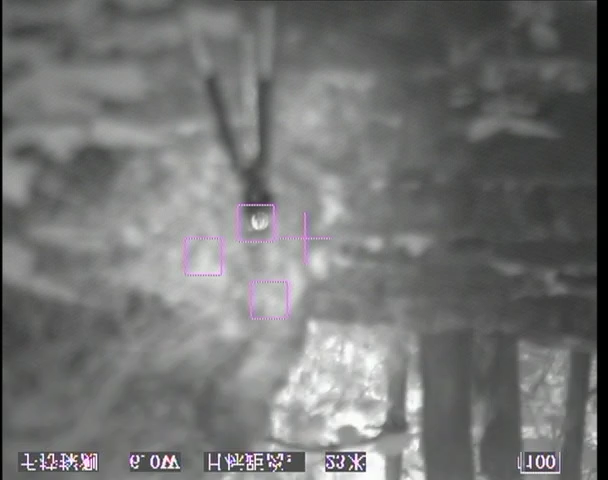my: (245, 207, 270, 233)
